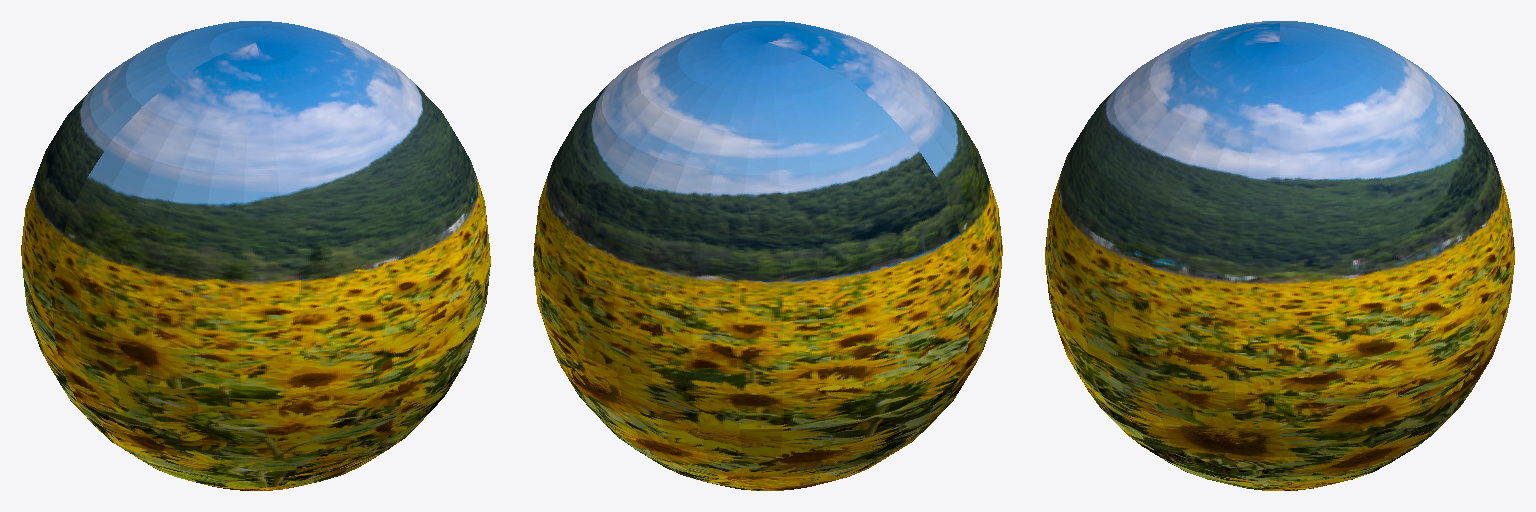
3 views of the same model, side by side, from view 1: azimuth 30°, elevation 25°; view 2: azimuth 150°, elevation 25°; view 3: azimuth 270°, elevation 25° (orthographic).
Parts seen in each view (by area): view 1: 球; view 2: 球; view 3: 球.
Boxes of the visible parts, box(x1,y1,x2,y2) form: 球: box(21, 21, 490, 490); 球: box(533, 21, 1002, 490); 球: box(1045, 21, 1514, 490).
Bounding box in the file's own units: 80 × 80 × 80.
Materials: 1 (1 with a texture image).